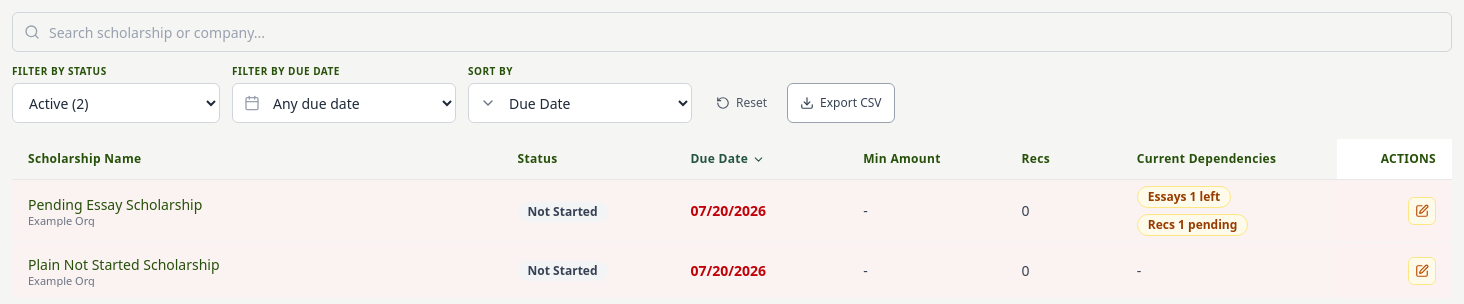
Scenario: GridView › includes pending essays and recommendations in dependencies even when not started
Select "Dependencies (1)" in the dropdown labelled "Filter by status". click: (116, 103)
box: [12, 83, 220, 123]
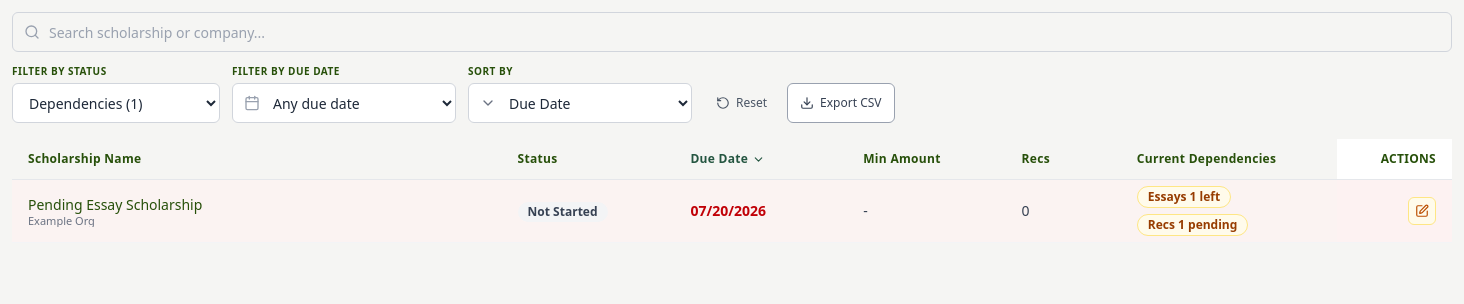
Expected: the text "Pending Essay Scholarship" is shown, [28, 195, 202, 214]
Result: the text "Plain Not Started Scholarship" is gone
